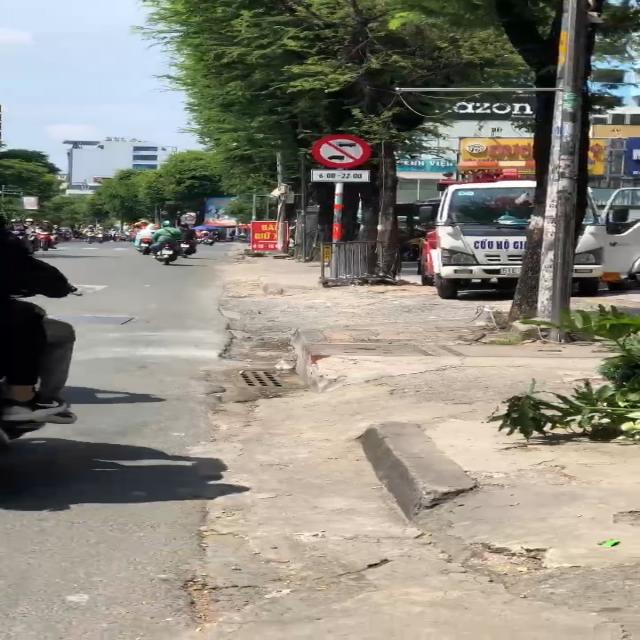Bien bao cam xe oto khach va xe oto tai: (314, 130, 382, 170)
